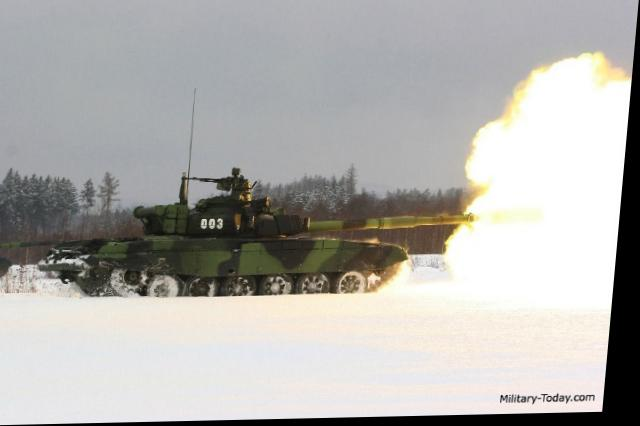tank: (90, 167, 407, 296)
